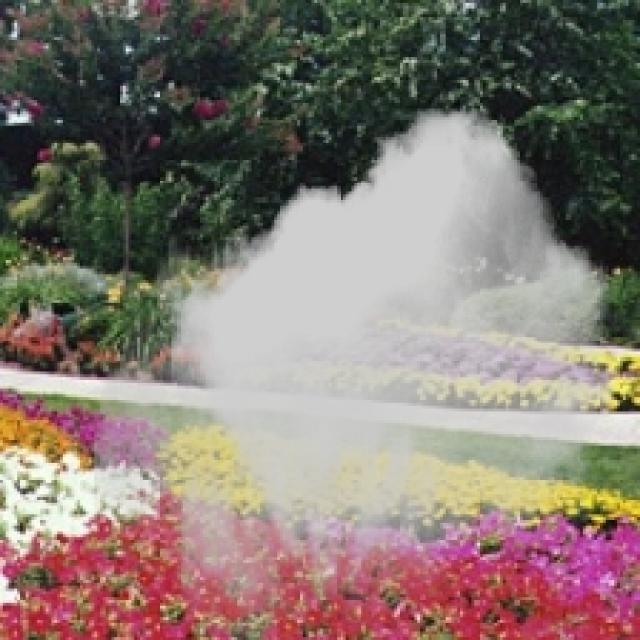smoke: (94, 109, 620, 637)
